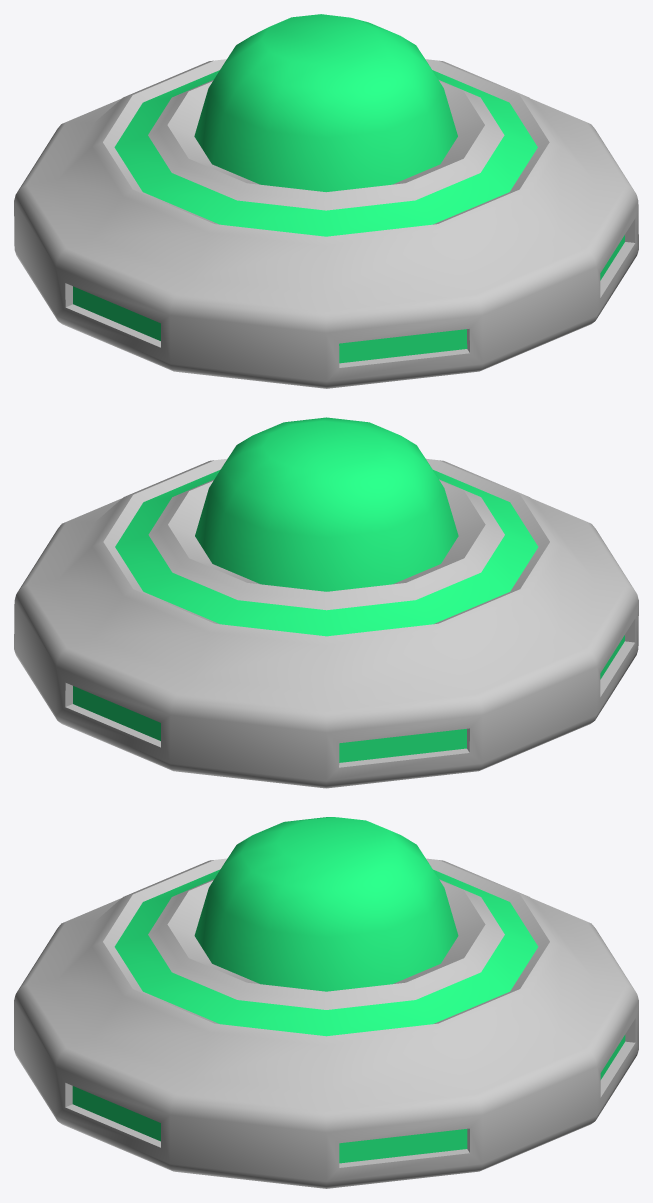
File: Ufo_1.fbx
3 renders of one model, top to bottom at view 1: azimuth 30°, elevation 25°; view 2: azimuth 150°, elevation 25°; view 3: azimuth 270°, elevation 25°, orthographic.
Parts seen in each view (by area): view 1: Ufo_1; view 2: Ufo_1; view 3: Ufo_1.
Boxes of the visible parts, x1=… form: Ufo_1: x1=14, y1=14, x2=638, y2=388; Ufo_1: x1=14, y1=417, x2=638, y2=788; Ufo_1: x1=14, y1=817, x2=638, y2=1188.
Bounding box in the file's own units: 0.849 × 0.355 × 0.8482.
